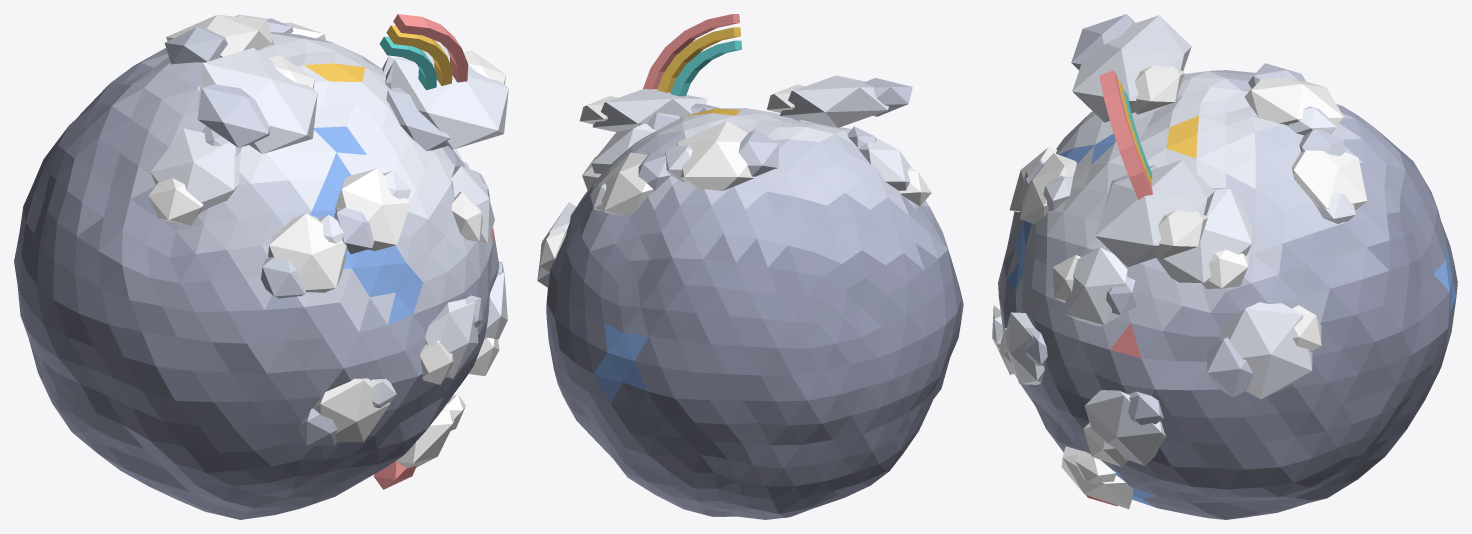
File: Cloud_03.fbx
3 renders of one model, left to right at view 1: azimuth 30°, elevation 25°; view 2: azimuth 150°, elevation 25°; view 3: azimuth 270°, elevation 25°, orthographic. The views are drawn at different scales.
Visible parts, largest first — view 1: Cloud_03; view 2: Cloud_03; view 3: Cloud_03.
Boxes of the visible parts, bbox=[...] form: Cloud_03: bbox=[14, 14, 508, 519]; Cloud_03: bbox=[537, 14, 963, 519]; Cloud_03: bbox=[992, 14, 1457, 519].
Size of the model in its own units: 6.34 by 7.03 by 6.22.
Materials: 1 (1 with a texture image).
